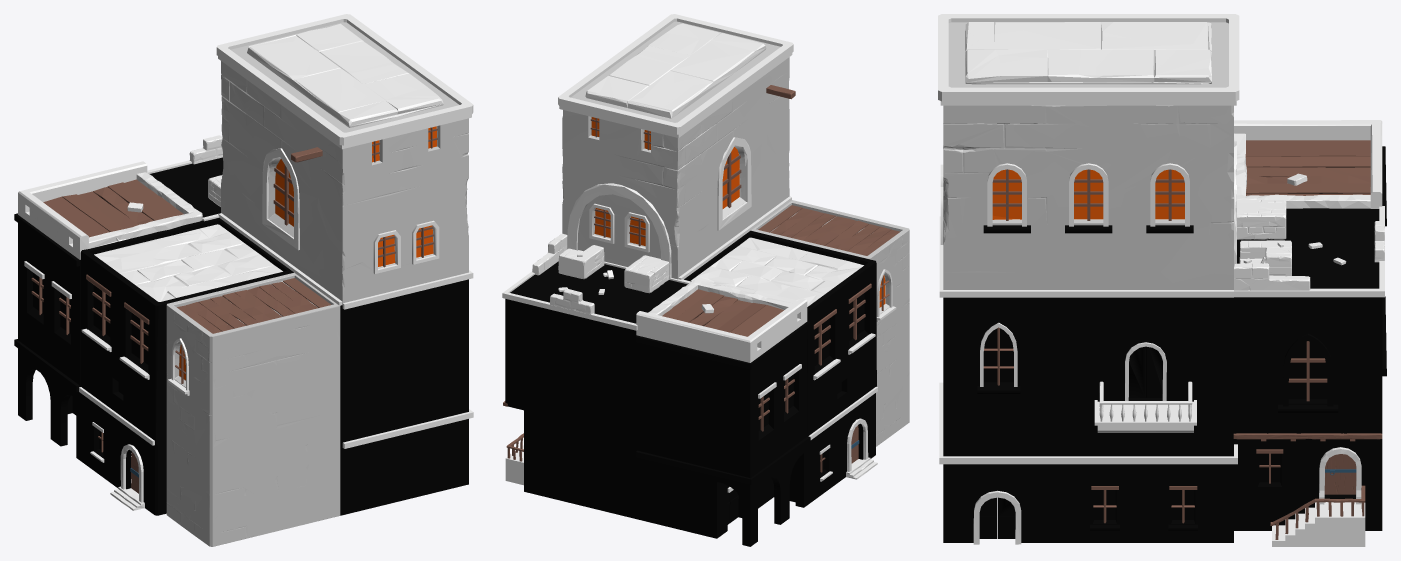
The model's file is civilian_house_10.FBX.
The picture shows the model from 3 angles, left to right: view 1: azimuth 30°, elevation 25°; view 2: azimuth 150°, elevation 25°; view 3: azimuth 270°, elevation 25°; orthographic projection. The views are drawn at different scales.
Parts seen in each view (by area): view 1: civilian_house_10_LOD0; view 2: civilian_house_10_LOD0; view 3: civilian_house_10_LOD0.
Part boxes in pixels (box(x1,y1,x2,y2)): civilian_house_10_LOD0: box(14, 14, 473, 546); civilian_house_10_LOD0: box(502, 14, 909, 546); civilian_house_10_LOD0: box(938, 14, 1386, 546).
Size of what is drawn, in the model's own units: 1902 by 2191 by 1945.
